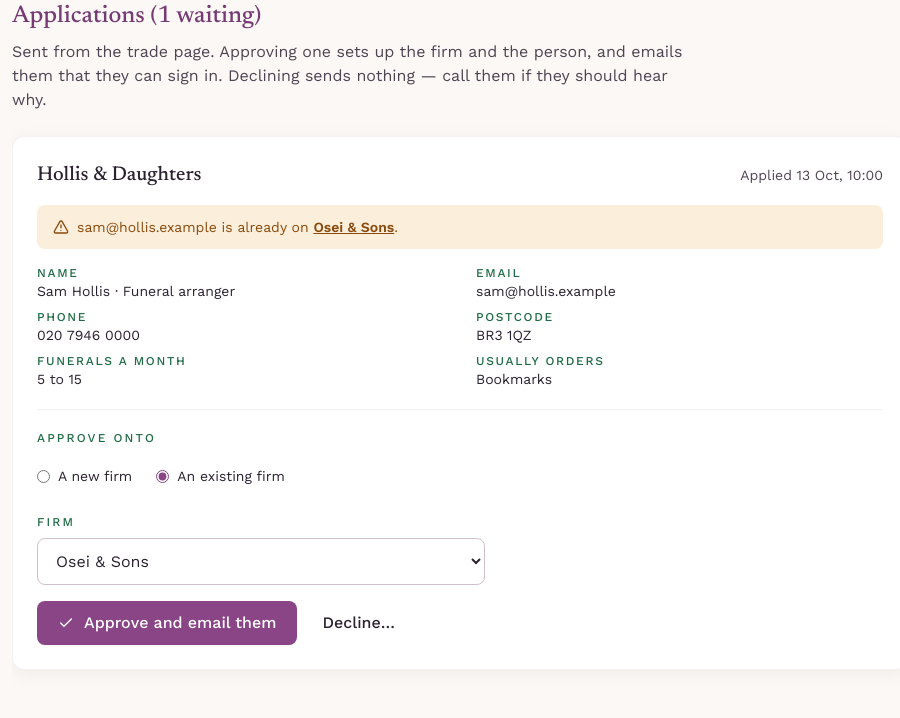
Test: AdminTradeApplications › warns when the address is already on a firm, and starts on that firm
Expected: the text "sam@hollis.example is already on Osei & Sons ." is shown, [77,217,398,237]
Expected: the radio button labelled "An existing firm" is checked, [156,470,169,482]
Step 1. Click the button "Approve and email them" → (167, 623), box [37,601,297,645]
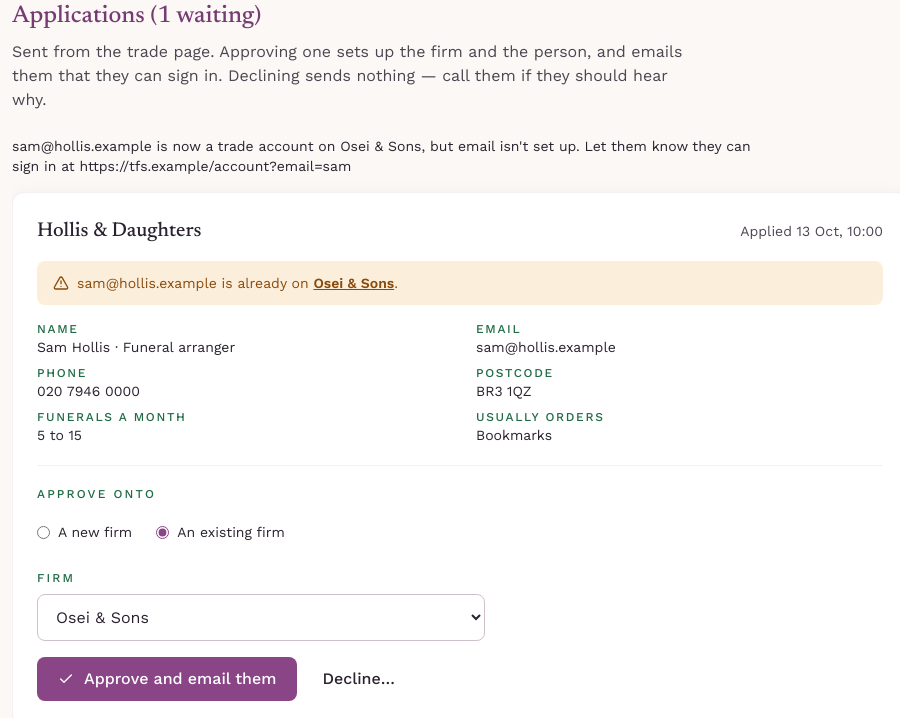
Expected: the message shows "but email isn't set up. Let them know they can sign in at https://tfs.example/account?email=sam", [12,138,751,174]
